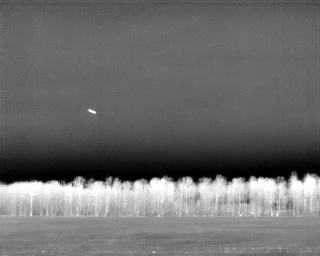DRONE: (84, 104, 100, 118)
